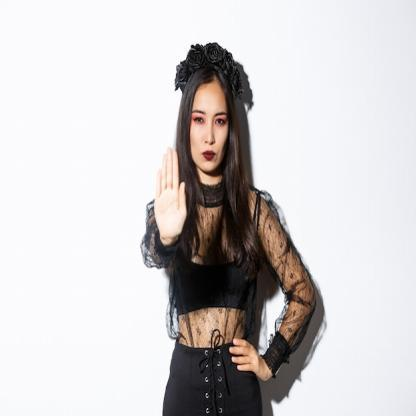stop: (152, 145, 190, 243)
